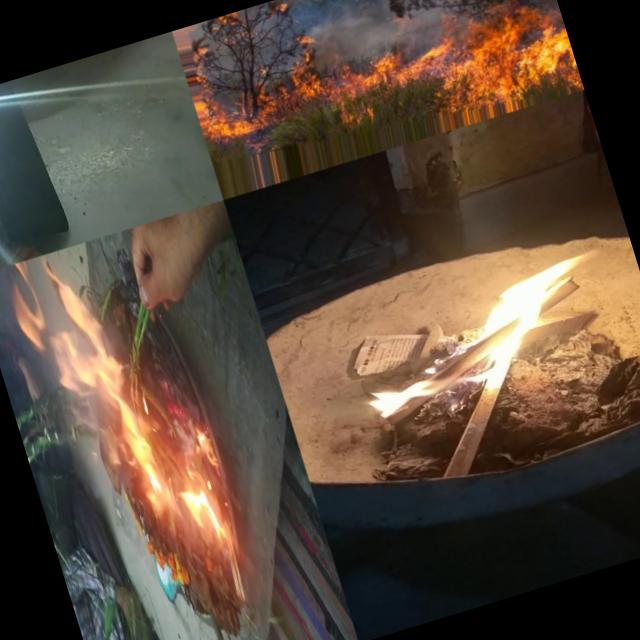fire: (200, 0, 577, 174), (336, 243, 624, 434), (79, 479, 225, 640), (101, 389, 176, 492)
smoke: (66, 238, 148, 394)
